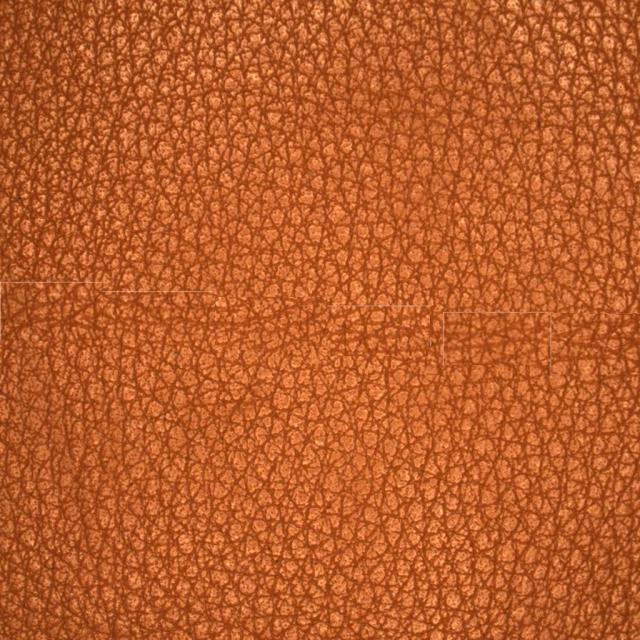Healed Injury: (282, 262, 610, 386), (60, 262, 250, 360)
